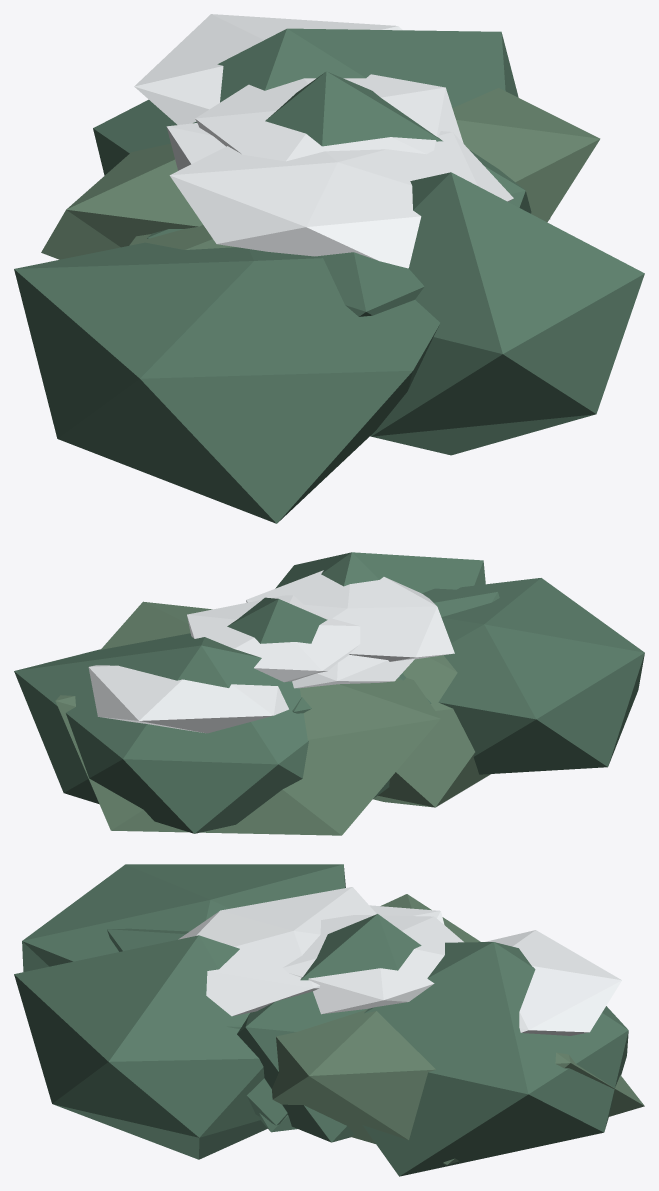
The model's file is DwarfJuniper.glb.
3 views of the same model, one above another, from view 1: azimuth 30°, elevation 25°; view 2: azimuth 150°, elevation 25°; view 3: azimuth 270°, elevation 25° (orthographic). The views are drawn at different scales.
Visible parts, largest first — view 1: Shrub clump.007, Shrub clump.004, Snow patch.003, Shrub clump.003, Shrub clump.001, Snow patch, Snow patch.001, Shrub clump, Shrub clump.006, Snow patch.002, Shrub clump.005; view 2: Shrub clump.001, Shrub clump.007, Shrub clump.003, Snow patch.003, Snow patch.001, Shrub clump.005, Snow patch, Shrub clump.004, Shrub clump, Snow patch.002, Shrub clump.006; view 3: Shrub clump.004, Shrub clump.001, Shrub clump.003, Shrub clump.007, Snow patch.003, Shrub clump, Snow patch, Snow patch.001, Shrub clump.006, Snow patch.002.
Part boxes in pixels (bbox=[...]): Shrub clump.007: bbox=[14, 242, 440, 523]; Shrub clump.004: bbox=[370, 172, 644, 455]; Snow patch.003: bbox=[169, 131, 513, 268]; Shrub clump.003: bbox=[41, 88, 600, 259]; Shrub clump.001: bbox=[93, 28, 518, 175]; Snow patch: bbox=[195, 74, 463, 161]; Snow patch.001: bbox=[134, 14, 402, 124]; Shrub clump: bbox=[265, 71, 531, 213]; Shrub clump.006: bbox=[315, 252, 424, 316]; Snow patch.002: bbox=[166, 123, 225, 170]; Shrub clump.005: bbox=[129, 225, 236, 249]; Shrub clump.001: bbox=[14, 633, 308, 833]; Shrub clump.007: bbox=[438, 578, 644, 774]; Shrub clump.003: bbox=[55, 601, 440, 835]; Snow patch.003: bbox=[246, 570, 454, 661]; Snow patch.001: bbox=[88, 665, 288, 733]; Shrub clump.005: bbox=[373, 655, 490, 807]; Snow patch: bbox=[187, 595, 360, 682]; Shrub clump.004: bbox=[275, 552, 485, 593]; Shrub clump: bbox=[227, 597, 327, 643]; Snow patch.002: bbox=[292, 655, 414, 688]; Shrub clump.006: bbox=[292, 588, 499, 713]; Shrub clump.004: bbox=[14, 935, 267, 1159]; Shrub clump.001: bbox=[362, 942, 628, 1176]; Shrub clump.003: bbox=[272, 894, 644, 1164]; Shrub clump.007: bbox=[22, 864, 345, 971]; Snow patch.003: bbox=[178, 887, 376, 1016]; Shrub clump: bbox=[237, 914, 421, 1142]; Snow patch: bbox=[283, 915, 463, 1014]; Snow patch.001: bbox=[485, 930, 621, 1035]; Shrub clump.006: bbox=[107, 928, 287, 1125]; Snow patch.002: bbox=[369, 905, 444, 924].
Size of the model in its own units: 1.78 by 0.8208 by 1.94.
